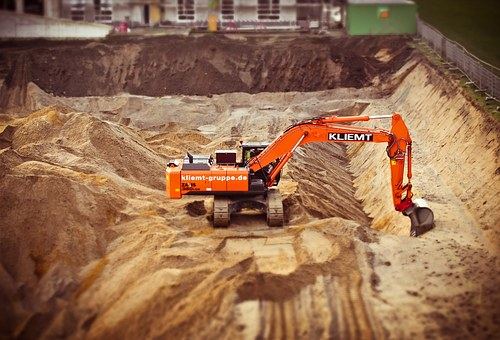excavator: (164, 108, 444, 239)
